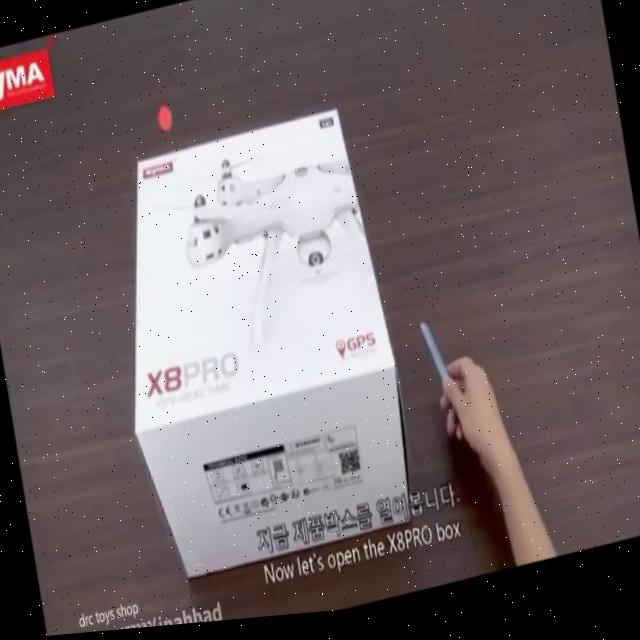drone: (146, 131, 380, 367)
